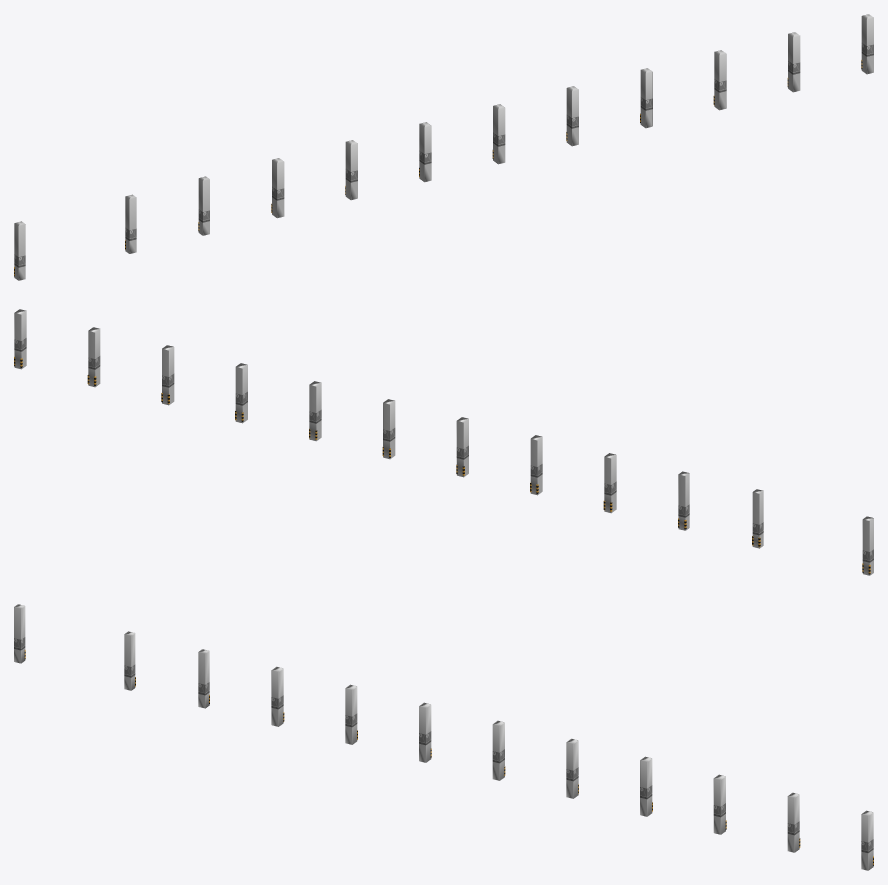
The model's file is WPLPillar03.fbx.
3 views of the same model, one above another, from view 1: azimuth 30°, elevation 25°; view 2: azimuth 150°, elevation 25°; view 3: azimuth 330°, elevation 25° (orthographic).
Visible parts, largest first — view 1: Pillar 03.Shape; view 2: Pillar 03.Shape; view 3: Pillar 03.Shape.
Part boxes in pixels (x1,y1,x2,y2): Pillar 03.Shape: [14, 14, 873, 280]; Pillar 03.Shape: [14, 309, 873, 575]; Pillar 03.Shape: [14, 604, 873, 870].
Size of the model in its own units: 10428 by 636 by 115.
Materials: 4 (3 with a texture image).
